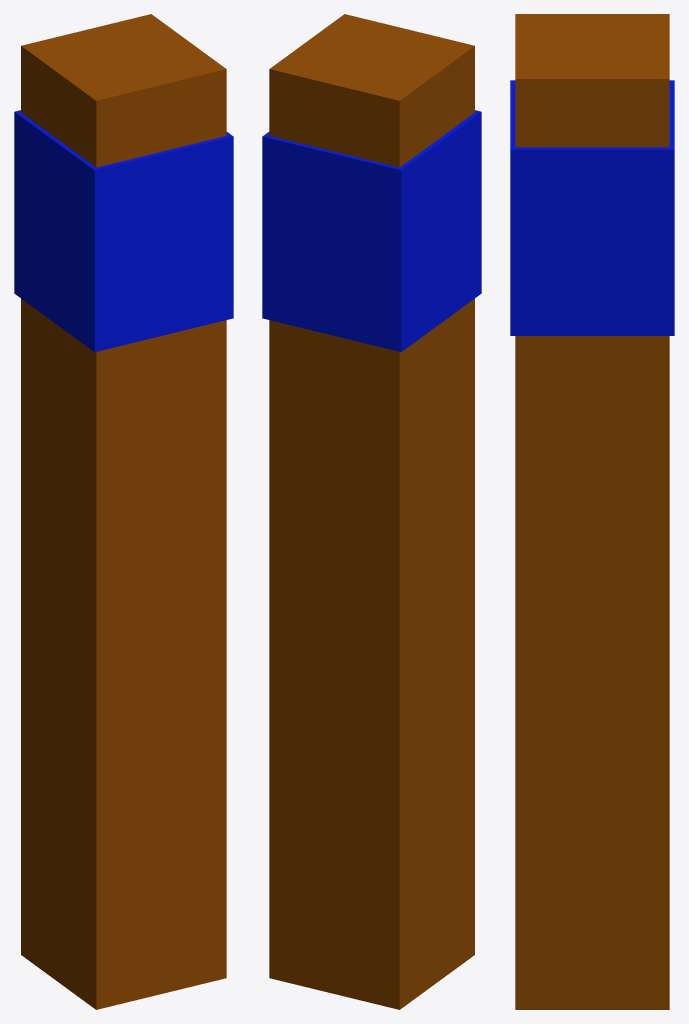
File: Levers_Blue.fbx
The picture shows the model from 3 angles, left to right: view 1: azimuth 30°, elevation 25°; view 2: azimuth 150°, elevation 25°; view 3: azimuth 270°, elevation 25°; orthographic projection. The views are drawn at different scales.
Visible parts, largest first — view 1: Cube, Cube.001; view 2: Cube, Cube.001; view 3: Cube, Cube.001.
Part boxes in pixels (<box>): Cube: <box>21,14,226,1009</box>; Cube.001: <box>14,110,233,352</box>; Cube: <box>269,14,474,1009</box>; Cube.001: <box>262,110,481,352</box>; Cube: <box>515,14,669,1009</box>; Cube.001: <box>510,80,674,335</box>.
Bounding box in the file's own units: 32 × 200 × 32.
